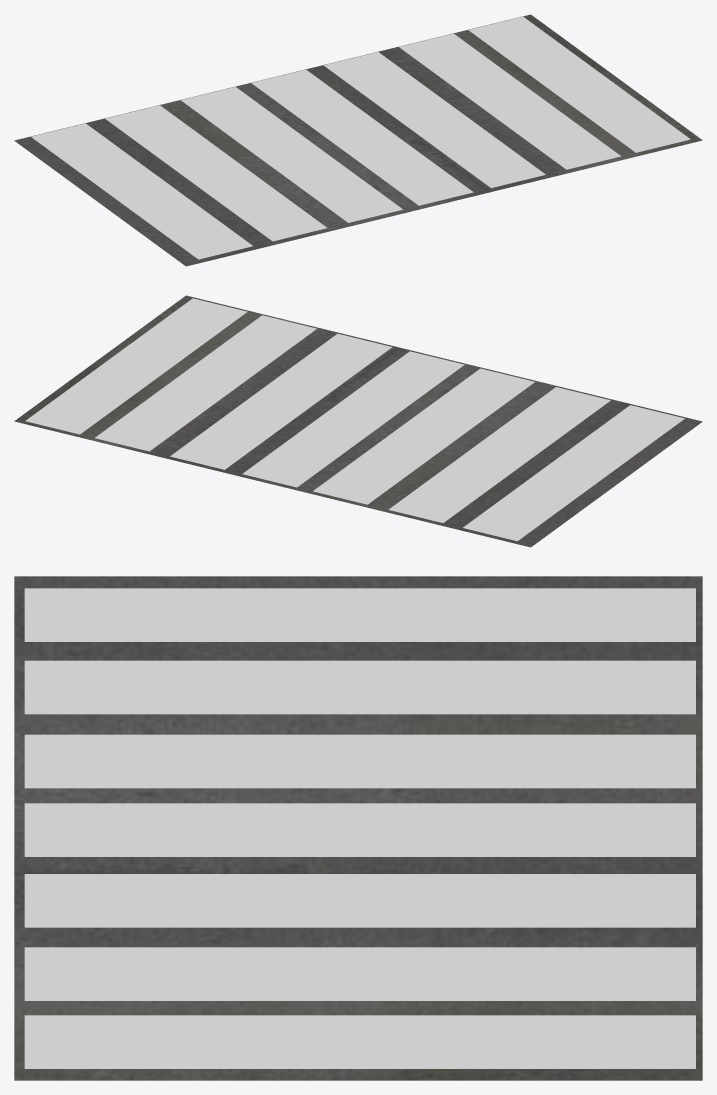
File: Zebrastreifen.dae
3 views of the same model, one above another, from view 1: azimuth 30°, elevation 25°; view 2: azimuth 150°, elevation 25°; view 3: azimuth 270°, elevation 25° (orthographic). The views are drawn at different scales.
Visible parts, largest first — view 1: Plane, Plane_007, Plane_001, Plane_004, Plane_003, Plane_006, Plane_002, Plane_005; view 2: Plane, Plane_007, Plane_001, Plane_003, Plane_006, Plane_004, Plane_002, Plane_005; view 3: Plane, Plane_004, Plane_001, Plane_007, Plane_006, Plane_005, Plane_003, Plane_002.
Boxes of the visible parts, bbox=[...] form: Plane: bbox=[14, 14, 702, 266]; Plane_007: bbox=[468, 16, 690, 152]; Plane_001: bbox=[181, 87, 402, 222]; Plane_004: bbox=[105, 105, 326, 241]; Plane_003: bbox=[251, 69, 473, 205]; Plane_006: bbox=[399, 33, 620, 169]; Plane_002: bbox=[324, 52, 545, 187]; Plane_005: bbox=[31, 123, 252, 259]; Plane: bbox=[14, 295, 702, 547]; Plane_007: bbox=[25, 298, 247, 434]; Plane_001: bbox=[313, 368, 534, 504]; Plane_003: bbox=[242, 351, 464, 487]; Plane_006: bbox=[95, 315, 316, 451]; Plane_004: bbox=[388, 387, 610, 522]; Plane_002: bbox=[170, 333, 392, 469]; Plane_005: bbox=[463, 405, 684, 541]; Plane: bbox=[14, 576, 702, 1080]; Plane_004: bbox=[24, 660, 695, 714]; Plane_001: bbox=[24, 734, 695, 788]; Plane_007: bbox=[24, 1015, 695, 1068]; Plane_006: bbox=[24, 947, 695, 1000]; Plane_005: bbox=[24, 588, 695, 641]; Plane_003: bbox=[24, 803, 695, 856]; Plane_002: bbox=[24, 874, 695, 927].
Bounding box in the file's own units: 10.73 × 6.19 × 0.0265.
8 materials, 1 textured.
